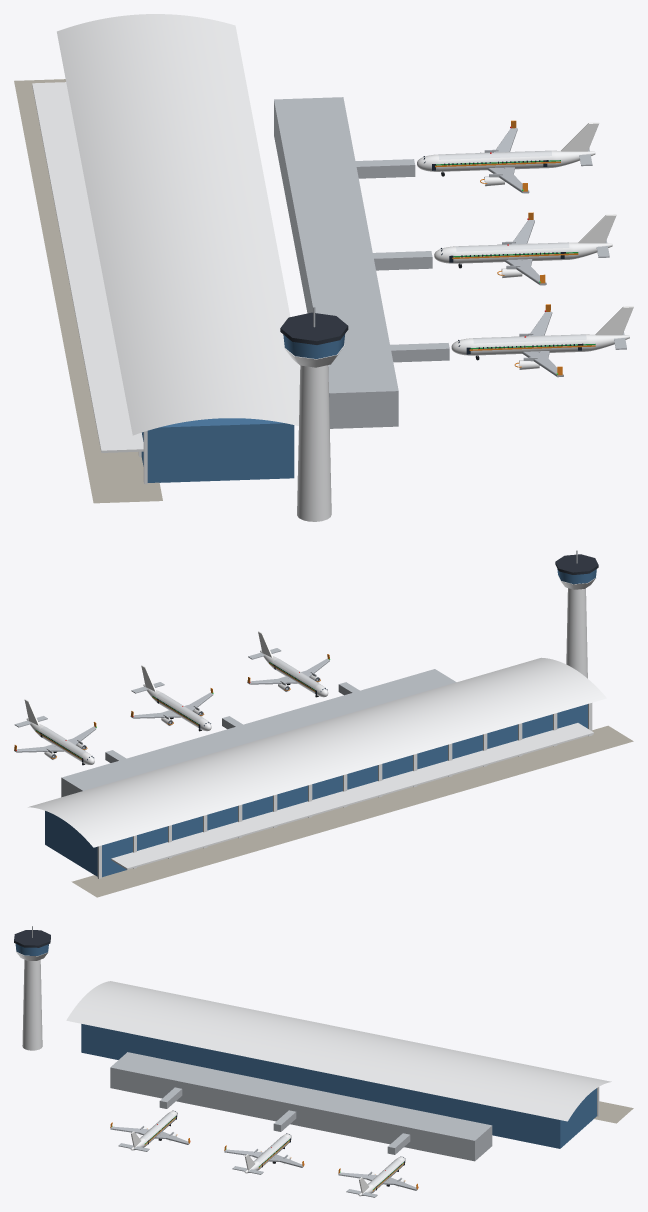
Rendered from pb-aeroport.glb.
3 views of the same model, one above another, from view 1: azimuth 30°, elevation 25°; view 2: azimuth 150°, elevation 25°; view 3: azimuth 270°, elevation 25° (orthographic). The views are drawn at different scales.
Bounding box in the file's own units: 192 × 52.5 × 246.
